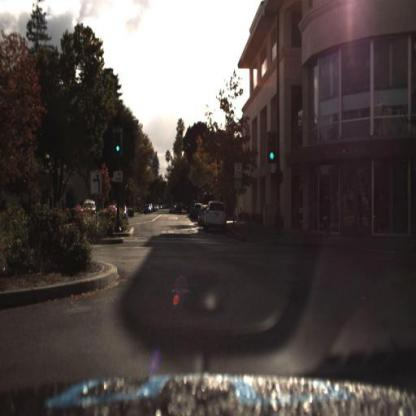car: (72, 195, 101, 222), (204, 207, 225, 237)
pedestrian: (322, 186, 335, 239), (322, 190, 332, 241)
trafficLight: (112, 140, 124, 167), (269, 134, 278, 169)
trafficLight-Green: (115, 134, 123, 159)
